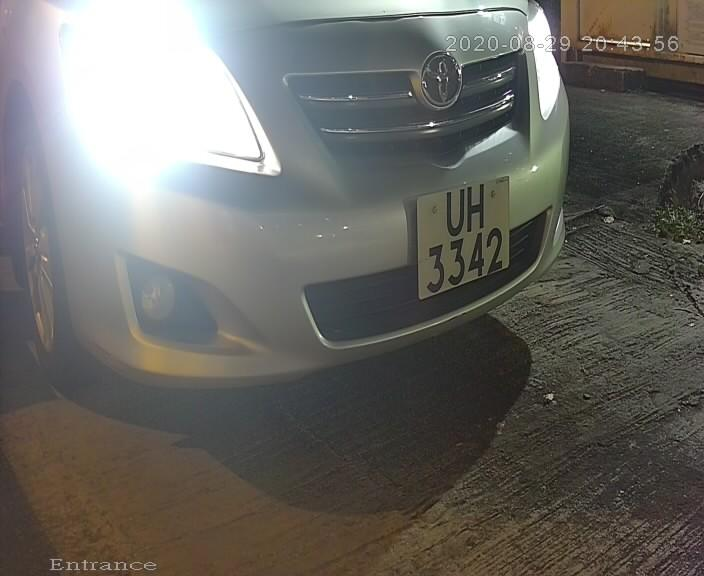License Plate: (409, 160, 513, 314)
